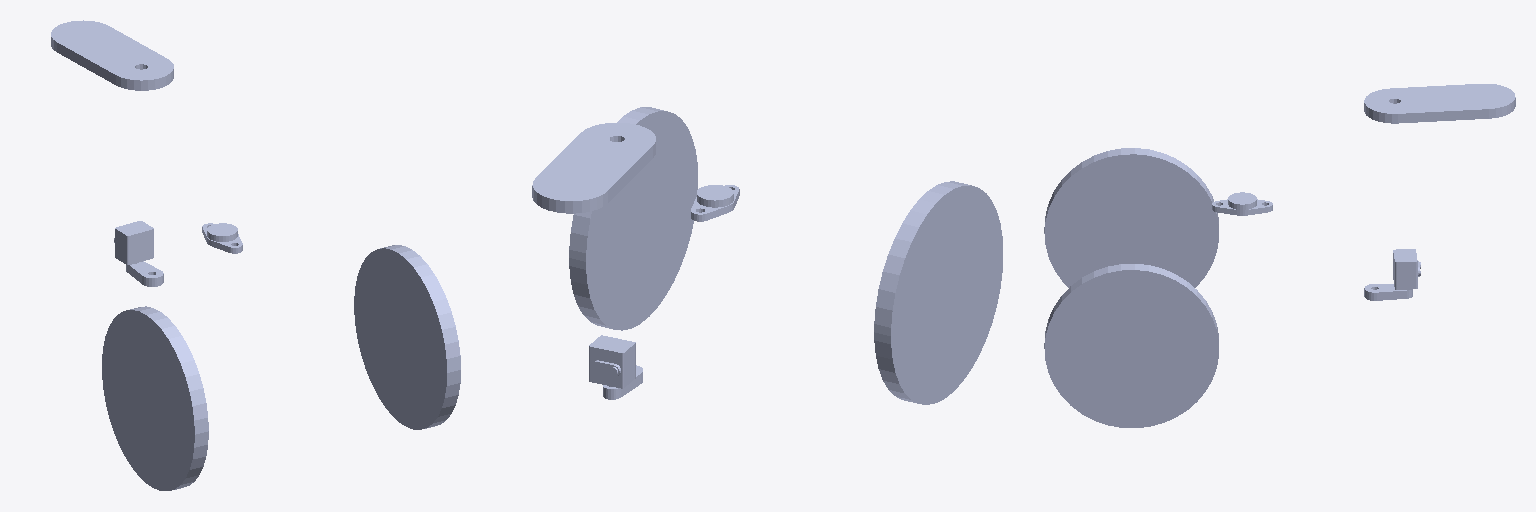
URDF robot description (tank):
<robot
  name="tank">
  <link
    name="base_link">
    <inertial>
      <origin
        xyz="-0.000108524182377716 -0.0902990594185242 0.103208198426333"
        rpy="0 0 0" />
      <mass
        value="0.601600157707464" />
      <inertia
        ixx="0.000505576859179843"
        ixy="1.46950197406681E-08"
        ixz="-8.69613423387717E-12"
        iyy="0.000337220178000293"
        iyz="-1.27464867949561E-07"
        izz="0.000697907468491316" />
    </inertial>
    <visual>
      <origin
        xyz="0 0 0"
        rpy="0 0 0" />
      <geometry>
        <mesh
          filename="package://tank_rtab/meshes/base_link.STL" />
      </geometry>
      <material
        name="">
        <color
          rgba="0.298039215686275 0.298039215686275 0.298039215686275 1" />
      </material>
    </visual>
    <collision>
      <origin
        xyz="0 0 0"
        rpy="0 0 0" />
      <geometry>
        <mesh
          filename="package://tank_rtab/meshes/base_link.STL" />
      </geometry>
    </collision>
  </link>
  
  <link
    name="right_wheel">
    <inertial>
      <origin
        xyz="0.00499999999999998 2.22044604925031E-16 2.62723870436687E-15"
        rpy="0 0 0" />
      <mass
        value="0.103868907109313" />
      <inertia
        ixx="0.000171708287065082"
        ixy="-7.08934587225641E-19"
        ixz="3.40544321211376E-20"
        iyy="8.67197177584521E-05"
        iyz="-2.7631389141895E-34"
        izz="8.67197177584521E-05" />
    </inertial>
    <visual>
      <origin
        xyz="0 0 0"
        rpy="0 0 0" />
      <geometry>
        <mesh
          filename="package://tank_rtab/meshes/right_wheel.STL" />
      </geometry>
      <material
        name="">
        <color
          rgba="0.792156862745098 0.819607843137255 0.933333333333333 1" />
      </material>
    </visual>
    <collision>
      <origin
        xyz="0 0 0"
        rpy="0 0 0" />
      <geometry>
        <mesh
          filename="package://tank_rtab/meshes/right_wheel.STL" />
      </geometry>
    </collision>
  </link>
  <joint
    name="rightwheel"
    type="continuous">
    <origin
      xyz="0.0848249872388515 -0.159816940607637 0.0574499999999974"
      rpy="0 0 0" />
    <parent
      link="base_link" />
    <child
      link="right_wheel" />
    <axis
      xyz="1 0 0" />
  </joint>
  <link
    name="left_wheel">
    <inertial>
      <origin
        xyz="-0.00499999999999991 2.4980018054066E-16 -1.56819002228303E-15"
        rpy="0 0 0" />
      <mass
        value="0.103868907109312" />
      <inertia
        ixx="0.000171708287065082"
        ixy="-7.359543827722E-19"
        ixz="1.76742618868712E-21"
        iyy="8.67197177584521E-05"
        iyz="-1.63619081435316E-35"
        izz="8.6719717758452E-05" />
    </inertial>
    <visual>
      <origin
        xyz="0 0 0"
        rpy="0 0 0" />
      <geometry>
        <mesh
          filename="package://tank_rtab/meshes/left_wheel.STL" />
      </geometry>
      <material
        name="">
        <color
          rgba="0.792156862745098 0.819607843137255 0.933333333333333 1" />
      </material>
    </visual>
    <collision>
      <origin
        xyz="0 0 0"
        rpy="0 0 0" />
      <geometry>
        <mesh
          filename="package://tank_rtab/meshes/left_wheel.STL" />
      </geometry>
    </collision>
  </link>
  <joint
    name="leftwheel"
    type="continuous">
    <origin
      xyz="-0.0851750127611487 -0.159816940607636 0.0574500000000015"
      rpy="0 0 0" />
    <parent
      link="base_link" />
    <child
      link="left_wheel" />
    <axis
      xyz="1 0 0" />
  </joint>
  <link
    name="banh_dan_dong_trai">
    <inertial>
      <origin
        xyz="0.00499999999999998 -5.55111512312578E-17 8.67361737988404E-19"
        rpy="0 0 0" />
      <mass
        value="0.103868907109313" />
      <inertia
        ixx="0.000171708287065082"
        ixy="-7.1690874188323E-19"
        ixz="3.24686946983214E-20"
        iyy="8.67197177584522E-05"
        iyz="-2.8266535187949E-34"
        izz="8.67197177584521E-05" />
    </inertial>
    <!--visual>
      <origin
        xyz="0 0 0"
        rpy="0 0 0" />
      <geometry>
        <mesh
          filename="package://tank_rtab/meshes/banh_dan_dong_trai.STL" />
      </geometry>
      <material
        name="">
        <color
          rgba="0.792156862745098 0.819607843137255 0.933333333333333 1" />
      </material>
    </visual-->
    <collision>
      <origin
        xyz="0 0 0"
        rpy="0 0 0" />
      <geometry>
        <mesh
          filename="package://tank_rtab/meshes/banh_dan_dong_trai.STL" />
      </geometry>
    </collision>
  </link>
  <joint
    name="banhdandongtrai"
    type="continuous">
    <origin
      xyz="-0.0991750127611473 -0.0116823353048084 0.05755"
      rpy="0 0 0" />
    <parent
      link="base_link" />
    <child
      link="banh_dan_dong_trai" />
    <axis
      xyz="1 0 0" />
  </joint>
  <link
    name="lidar">
    <inertial>
      <origin
        xyz="-1.29757316003065E-15 6.51605505663788E-17 -0.00457887144189027"
        rpy="0 0 0" />
      <mass
        value="0.00319215300114559" />
      <inertia
        ixx="2.18569137230852E-07"
        ixy="4.70988568996397E-22"
        ixz="7.51261257123066E-25"
        iyy="8.69531442161916E-08"
        iyz="4.84629312118416E-24"
        izz="2.7361198023536E-07" />
    </inertial>
    <visual>
      <origin
        xyz="0 0 0"
        rpy="0 0 0" />
      <geometry>
        <mesh
          filename="package://tank_rtab/meshes/lidar.STL" />
      </geometry>
      <material
        name="">
        <color
          rgba="0.792156862745098 0.819607843137255 0.933333333333333 1" />
      </material>
    </visual>
    <collision>
      <origin
        xyz="0 0 0"
        rpy="0 0 0" />
      <geometry>
        <mesh
          filename="package://tank_rtab/meshes/lidar.STL" />
      </geometry>
    </collision>
  </link>
  <joint
    name="lidar_joint"
    type="fixed">
    <origin
      xyz="-0.000175012761146634 -0.0870967209817709 0.122466815589433"
      rpy="0 0 0" />
    <parent
      link="base_link" />
    <child
      link="lidar" />
    <axis
      xyz="0 0 0" />
  </joint>
  <link
    name="camera">
    <inertial>
      <origin
        xyz="-0.00117819293604169 0.0173989447073359 0.00900130287593785"
        rpy="0 0 0" />
      <mass
        value="0.00827936767688675" />
      <inertia
        ixx="1.08061936654004E-06"
        ixy="1.97042592918232E-08"
        ixz="1.96963583456045E-08"
        iyy="8.2969788252791E-07"
        iyz="-2.82950264207049E-07"
        izz="7.09371776486622E-07" />
    </inertial>
    <visual>
      <origin
        xyz="0 0 0"
        rpy="0 0 0" />
      <geometry>
        <mesh
          filename="package://tank_rtab/meshes/camera.STL" />
      </geometry>
      <material
        name="">
        <color
          rgba="0.792156862745098 0.819607843137255 0.933333333333333 1" />
      </material>
    </visual>
    <collision>
      <origin
        xyz="0 0 0"
        rpy="0 0 0" />
      <geometry>
        <mesh
          filename="package://tank_rtab/meshes/camera.STL" />
      </geometry>
    </collision>
  </link>
  <joint
    name="camera_joint"
    type="fixed">
    <origin
      xyz="0 0 0.0574668155894326"
      rpy="0 0 0" />
    <parent
      link="base_link" />
    <child
      link="camera" />
    
  </joint>
  <link
    name="prismatic">
    <inertial>
      <origin
        xyz="2.87917391697118E-05 0.0526201488979757 0.00158552735898043"
        rpy="0 0 0" />
      <mass
        value="0.0930996208354306" />
      <inertia
        ixx="0.000168501130943866"
        ixy="2.14940445237952E-11"
        ixz="-3.09659639537977E-08"
        iyy="4.49018685905745E-05"
        iyz="1.64722797721107E-11"
        izz="0.000209740976030147" />
    </inertial>
    <visual>
      <origin
        xyz="0 0 0"
        rpy="0 0 0" />
      <geometry>
        <mesh
          filename="package://tank_rtab/meshes/prismatic.STL" />
      </geometry>
      <material
        name="">
        <color
          rgba="0.792156862745098 0.819607843137255 0.933333333333333 1" />
      </material>
    </visual>
    <collision>
      <origin
        xyz="0 0 0"
        rpy="0 0 0" />
      <geometry>
        <mesh
          filename="package://tank_rtab/meshes/prismatic.STL" />
      </geometry>
    </collision>
  </link>
  <joint
    name="prismatic_joint"
    type="prismatic">
    <origin
      xyz="-0.000175012761147599 -0.0870967209817715 0.198092664567826"
      rpy="0 0 0" />
    <parent
      link="base_link" />
    <child
      link="prismatic" />
    <axis
      xyz="0 0 1" />
    <limit
      lower="-0.03"
      upper="0.03"
      effort="50"
      velocity="0.01" />
  </joint>
  <link
    name="revolt_joint">
    <inertial>
      <origin
        xyz="-0.00374993354854962 0.0301861089970053 0.0035"
        rpy="0 0 0" />
      <mass
        value="0.0252446010528494" />
      <inertia
        ixx="1.7870968887505E-05"
        ixy="1.81988369150149E-06"
        ixz="2.55836890381603E-25"
        iyy="3.44739955007039E-06"
        iyz="8.11433088326687E-23"
        izz="2.11122041956438E-05" />
    </inertial>
    <visual>
      <origin
        xyz="0 0 0"
        rpy="0 0 0" />
      <geometry>
        <mesh
          filename="package://tank_rtab/meshes/revolt_joint.STL" />
      </geometry>
      <material
        name="">
        <color
          rgba="0.792156862745098 0.819607843137255 0.933333333333333 1" />
      </material>
    </visual>
    <collision>
      <origin
        xyz="0 0 0"
        rpy="0 0 0" />
      <geometry>
        <mesh
          filename="package://tank_rtab/meshes/revolt_joint.STL" />
      </geometry>
    </collision>
  </link>
  <joint
    name="revoltjoint"
    type="revolute">
    <origin
      xyz="0 0.1 -0.012"
      rpy="0 0 0" />
    <parent
      link="prismatic" />
    <child
      link="revolt_joint" />
    <axis
      xyz="0 0 1" />
    <limit
      lower="-1.57"
      upper="1.57"
      effort="5"
      velocity="0.5" />
  </joint>
  <link
    name="banh_dan_dong_phai">
    <inertial>
      <origin
        xyz="-0.005 4.1633E-17 6.0715E-18"
        rpy="0 0 0" />
      <mass
        value="0.10387" />
      <inertia
        ixx="0.00017171"
        ixy="-7.4092E-19"
        ixz="5.6469E-22"
        iyy="8.672E-05"
        iyz="5.6469E-21"
        izz="8.672E-05" />
    </inertial>
    <!--visual>
      <origin
        xyz="0 0 0"
        rpy="0 0 0" />
      <geometry>
        <mesh
          filename="package://tank_rtab/meshes/banh_dan_dong_phai.STL" />
      </geometry>
      <material
        name="">
        <color
          rgba="0.79216 0.81961 0.93333 1" />
      </material>
    </visual-->
    <collision>
      <origin
        xyz="0 0 0"
        rpy="0 0 0" />
      <geometry>
        <mesh
          filename="package://tank_rtab/meshes/banh_dan_dong_phai.STL" />
      </geometry>
    </collision>
  </link>
  <joint
    name="banhdandongphai"
    type="continuous">
    <origin
      xyz="0.0998249872388527 -0.0117323353048101 0.0575"
      rpy="0 0 0" />
    <parent
      link="base_link" />
    <child
      link="banh_dan_dong_phai" />
    <axis
      xyz="1 0 0" />
  </joint>
  
</robot>

--- What the picture shows (computed from the rendered views, not written in the file) ---
3 views of the same robot in one strip: view 1: azimuth 30°, elevation 25°; view 2: azimuth 150°, elevation 25°; view 3: azimuth 270°, elevation 25° (orthographic).
Robot: tank — 9 links, 8 joints (1 revolute, 4 continuous, 1 prismatic, 2 fixed); root link base_link; default pose: all joints at 0.
Links seen in each view (by area): view 1: left_wheel, right_wheel, revolt_joint, camera, lidar; view 2: left_wheel, right_wheel, revolt_joint, camera, lidar; view 3: right_wheel, left_wheel, revolt_joint, camera, lidar.
Link boxes in pixels (box(x1,y1,x2,y2)): left_wheel: box(102, 306, 208, 490); right_wheel: box(354, 245, 460, 429); revolt_joint: box(51, 20, 173, 90); camera: box(114, 221, 163, 286); lidar: box(202, 223, 242, 253); left_wheel: box(874, 181, 1002, 404); right_wheel: box(569, 107, 697, 330); revolt_joint: box(532, 123, 655, 213); camera: box(589, 335, 642, 399); lidar: box(691, 185, 739, 221); right_wheel: box(1044, 264, 1218, 427); left_wheel: box(1044, 148, 1218, 287); revolt_joint: box(1364, 84, 1515, 123); camera: box(1364, 249, 1420, 300); lidar: box(1212, 192, 1272, 215).
Size in the robot's own frame: 0.19 by 0.3097 by 0.1931 metres.
Meshes: 7 distinct files referenced, 5 mesh visuals loaded (5 binary STL); not drawn: 2 (reference not matched to a file when rendering).
